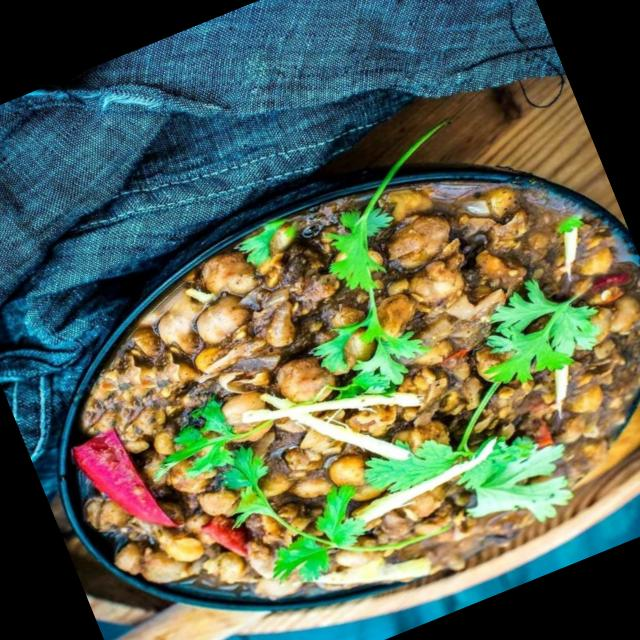Chole: (13, 99, 640, 640)
